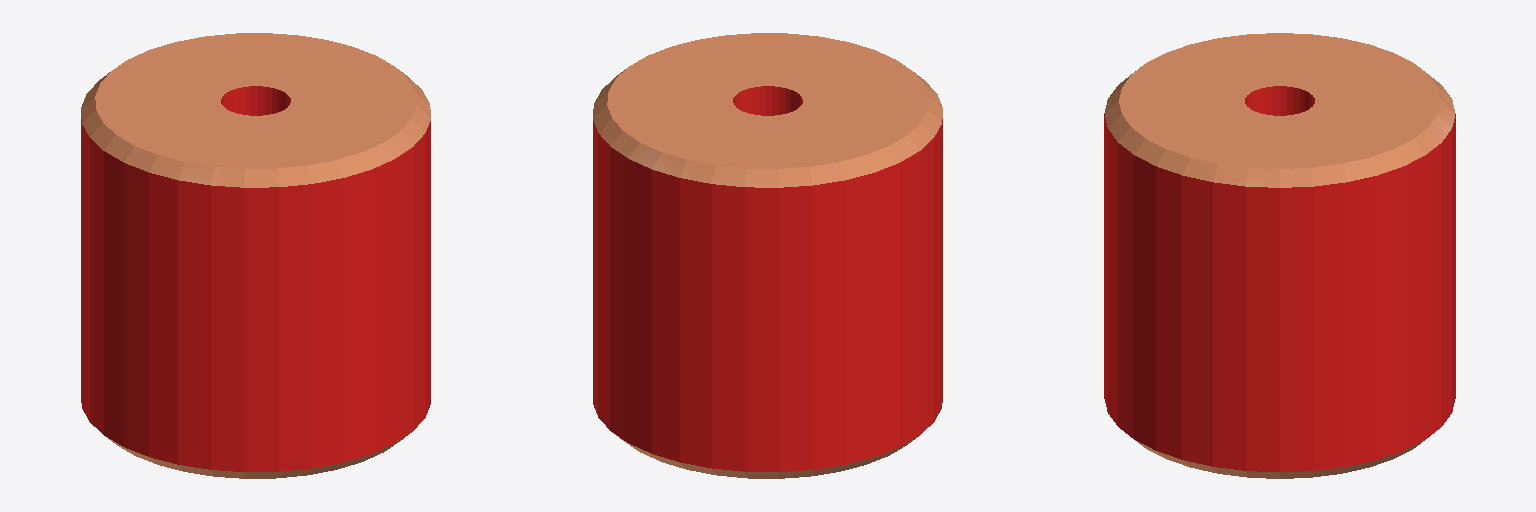
3 renders of one model, left to right at view 1: azimuth 30°, elevation 25°; view 2: azimuth 150°, elevation 25°; view 3: azimuth 270°, elevation 25°, orthographic.
Visible parts, largest first — view 1: 円柱; view 2: 円柱; view 3: 円柱.
Part boxes in pixels (left/top/right/bottom): 円柱: left=81, top=33, right=430, bottom=478; 円柱: left=593, top=33, right=942, bottom=478; 円柱: left=1104, top=33, right=1455, bottom=478.
Size of the model in its own units: 2 by 1.95 by 2.
Materials: 1 (1 with a texture image).